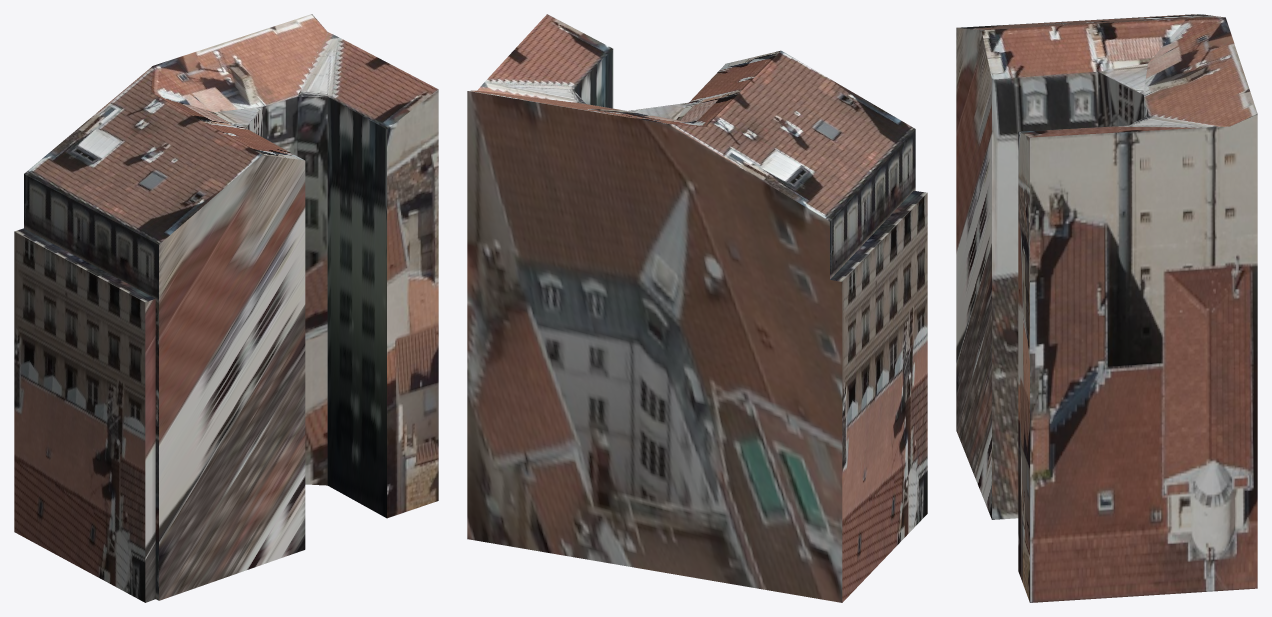
3 views of the same model, side by side, from view 1: azimuth 30°, elevation 25°; view 2: azimuth 150°, elevation 25°; view 3: azimuth 270°, elevation 25° (orthographic). The views are drawn at different scales.
Parts seen in each view (by area): view 1: Z_UP; view 2: Z_UP; view 3: Z_UP.
Part boxes in pixels (<box>): Z_UP: <box>14,14,438,602</box>; Z_UP: <box>467,14,927,602</box>; Z_UP: <box>956,14,1257,602</box>.
Size of the model in its own units: 24.31 by 27.86 by 16.02.
2 materials, 1 textured.
